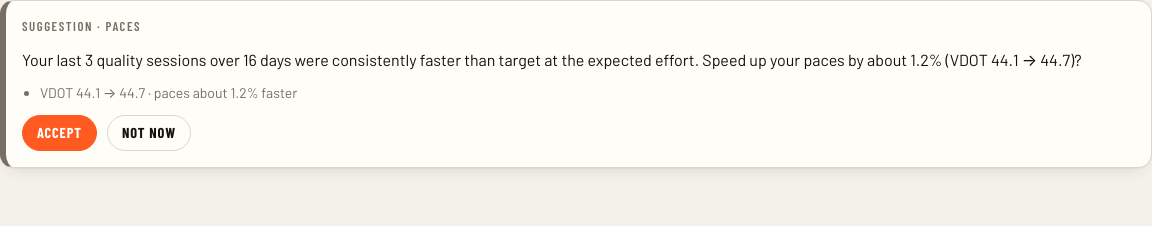
Test: proposal card › shows the message with Accept / Not now, then the resulting plan changes
This screenshot has width=1152, height=226.
expect the text "Speed up your paces" is shown: met, box [22,50,1082,68]
expect the list item "VDOT 44.1 → 44.7 · paces about 1.2% faster" is shown: met, box [40,84,297,101]
Click the button "Accept" at (59, 133), box [22,115,97,151]
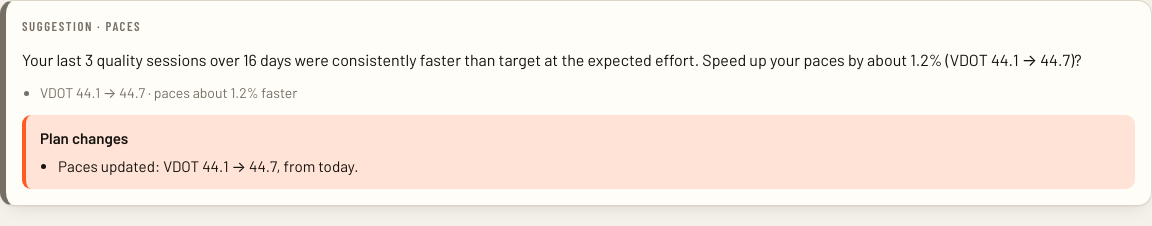
expect the list item "Paces updated: VDOT 44.1 → 44.7, from today." is shown: met, box [58,157,358,175]
expect the button "Accept" is gone: met
